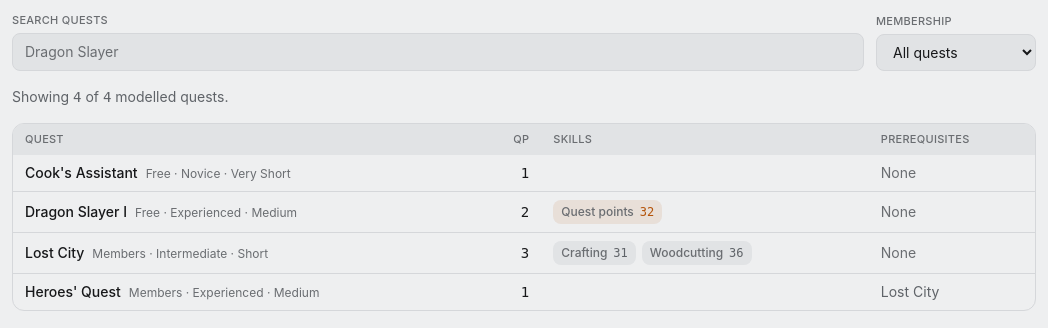
Scenario: QuestIndex › filters to free-to-play quests
Select "Free-to-play" in the dropdown labelled "Membership" at point(956, 52), box [876,34,1036,70]
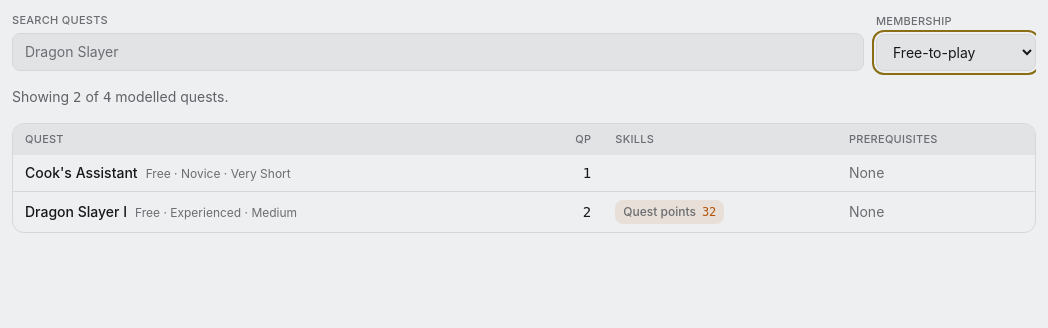
Expected: the link "Cook's Assistant" is shown, [25,164,138,181]
Expected: the link "Lost City" is gone
